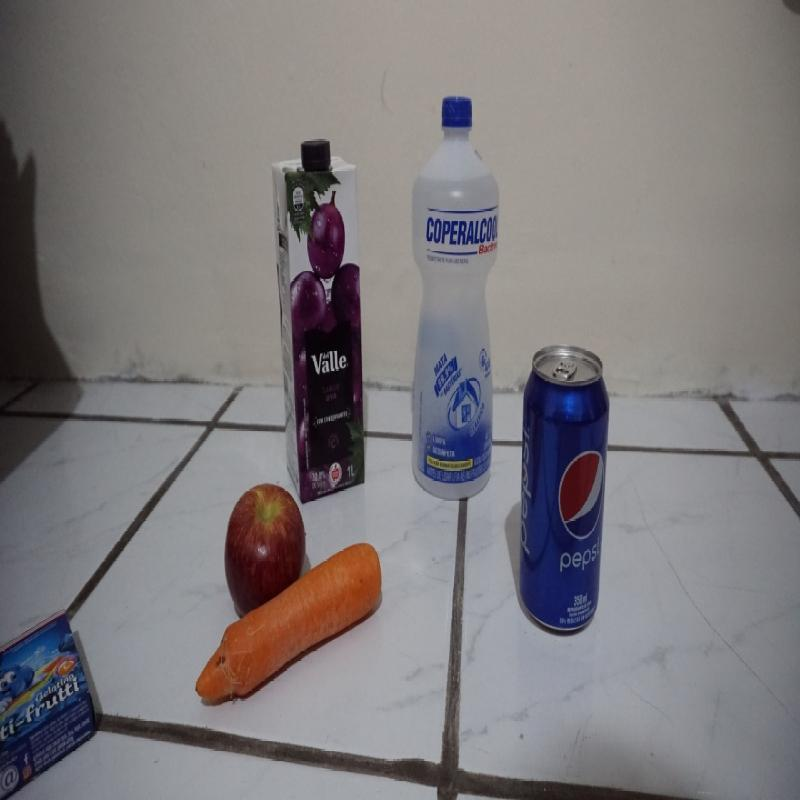Alcohol Bottle: (409, 93, 500, 498)
Carrot: (193, 539, 383, 704)
Gelatine: (0, 608, 97, 796)
Soda can: (518, 342, 610, 638)
